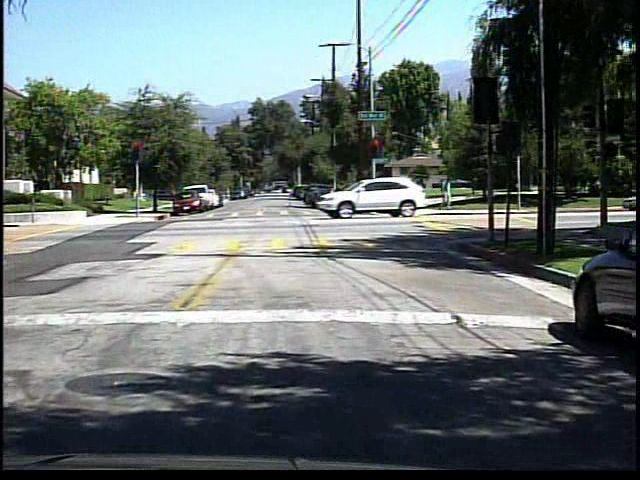person: (441, 176, 453, 213)
